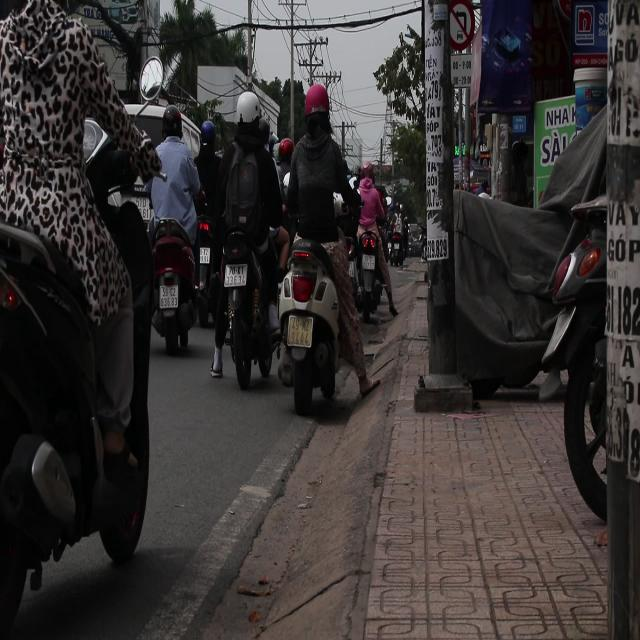motorbike: (4, 39, 162, 614), (272, 235, 370, 415), (216, 176, 282, 424), (148, 216, 198, 359), (352, 222, 388, 328)
